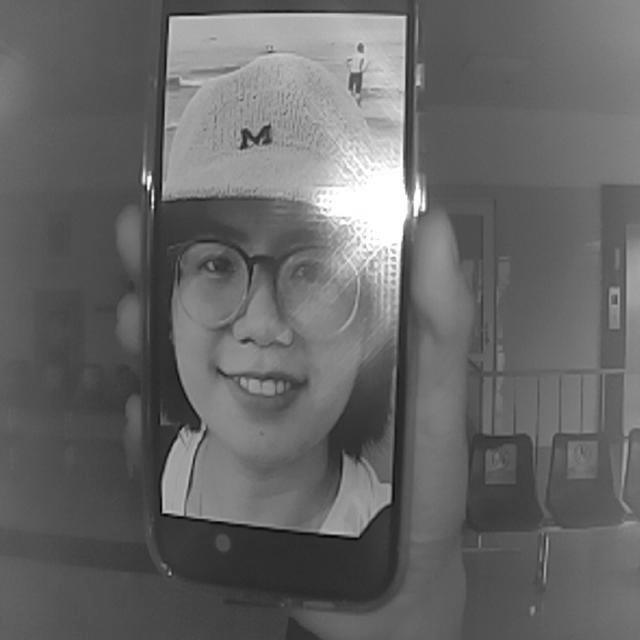fake: (134, 3, 428, 609)
